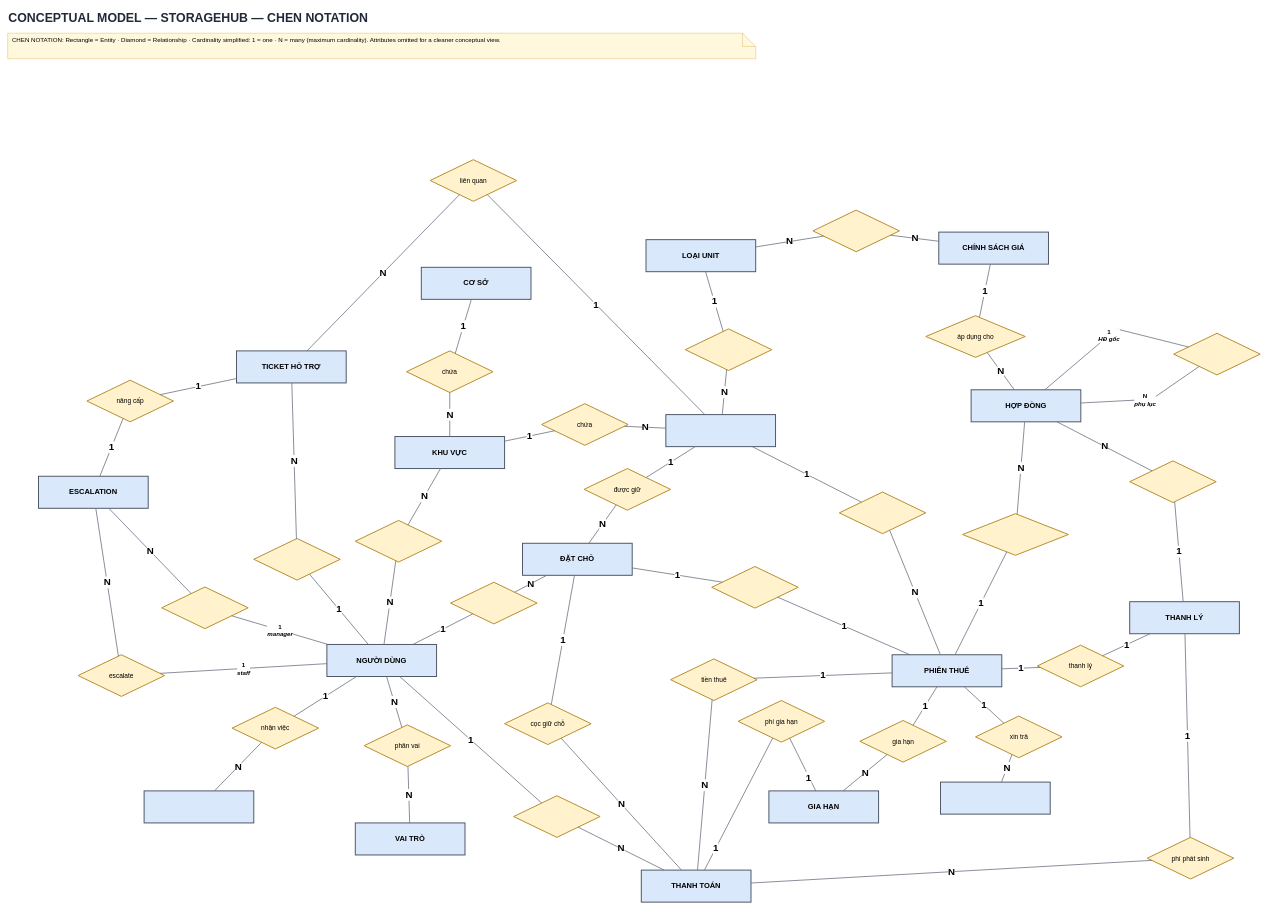
Image size: 1269x910. Some labels were removed from this diagram. Each missing label, with the centre of its shape:
cho thuê: point (882, 512)
gửi: point (297, 559)
kích hoạt: point (754, 587)
liên kết: point (1216, 354)
mang (gốc + phụ lục): point (1015, 534)
phân loại: point (728, 349)
quyết định: point (204, 607)
TASK: point (198, 806)
trả tiền: point (556, 816)
trực ca: point (398, 541)
UNIT KHO: point (720, 430)
YÊU CẦU TRẢ KHO: point (995, 797)
áp dụng: point (856, 230)
đặt: point (493, 603)
đối chiếu: point (1172, 481)
